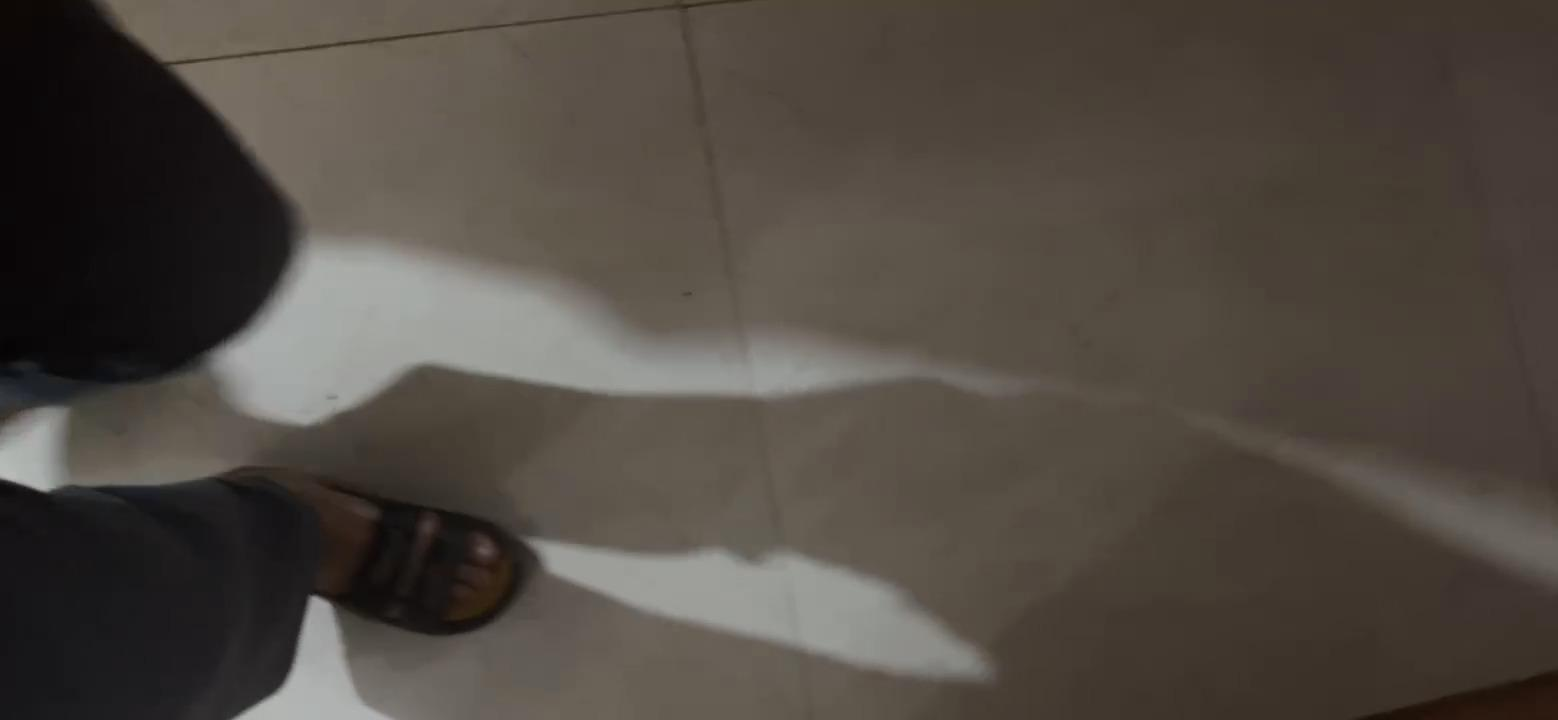no-boot: (255, 463, 525, 631)
